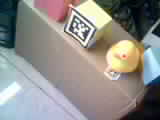duck: (106, 37, 137, 76)
